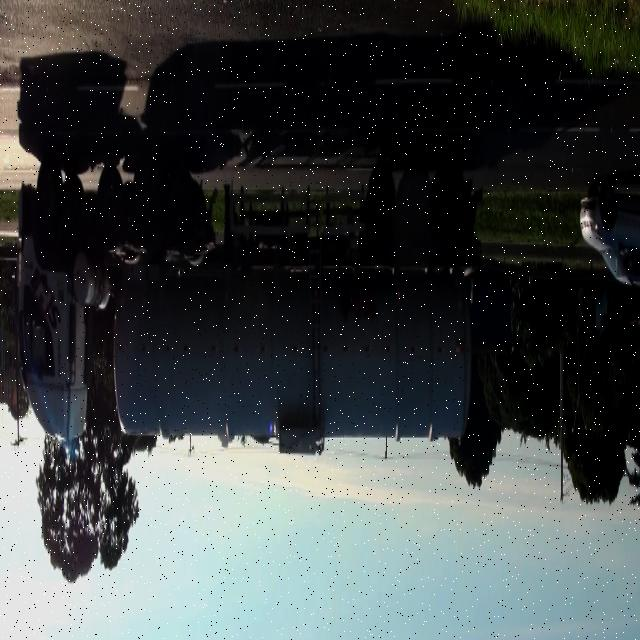-axle: (398, 162, 432, 251), (364, 165, 396, 251), (438, 176, 469, 262), (34, 159, 64, 244), (96, 169, 120, 244), (132, 173, 156, 232)
